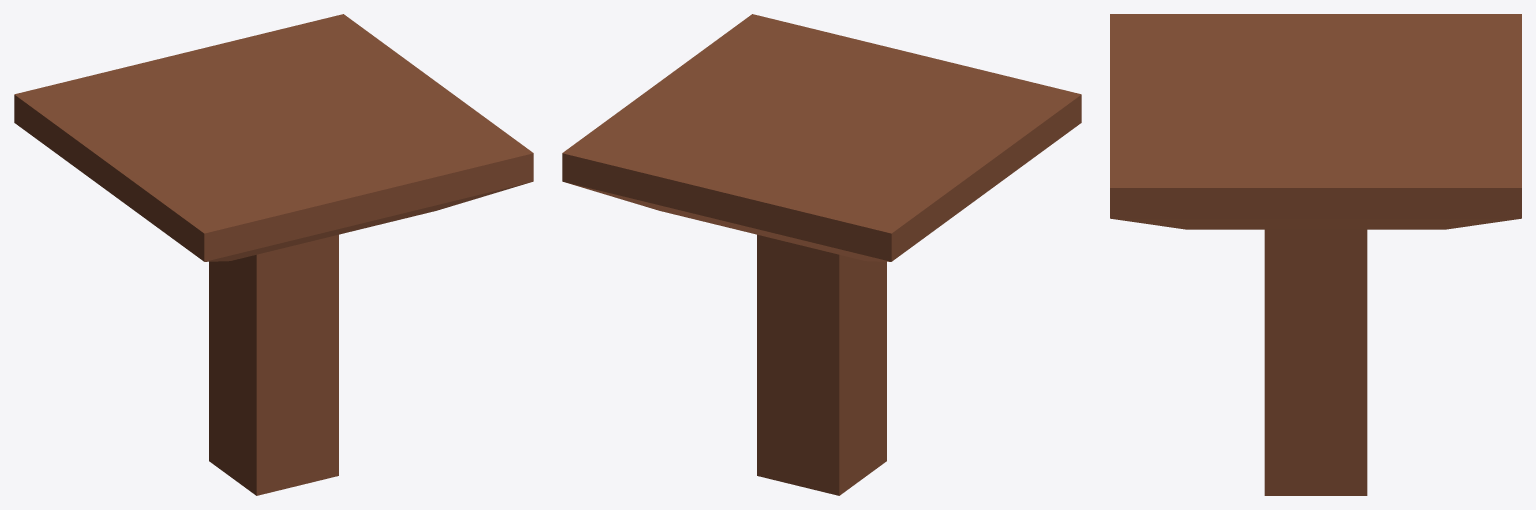
File: T_pillar_v6.fbx
3 views of the same model, side by side, from view 1: azimuth 30°, elevation 25°; view 2: azimuth 150°, elevation 25°; view 3: azimuth 270°, elevation 25° (orthographic). The views are drawn at different scales.
Visible parts, largest first — view 1: BEAM_T; view 2: BEAM_T; view 3: BEAM_T.
Boxes of the visible parts, x1,y1,x2,y2 form: BEAM_T: (14,14,533,495); BEAM_T: (562,14,1081,495); BEAM_T: (1110,14,1521,495).
Size of the model in its own units: 100 by 100 by 100.
